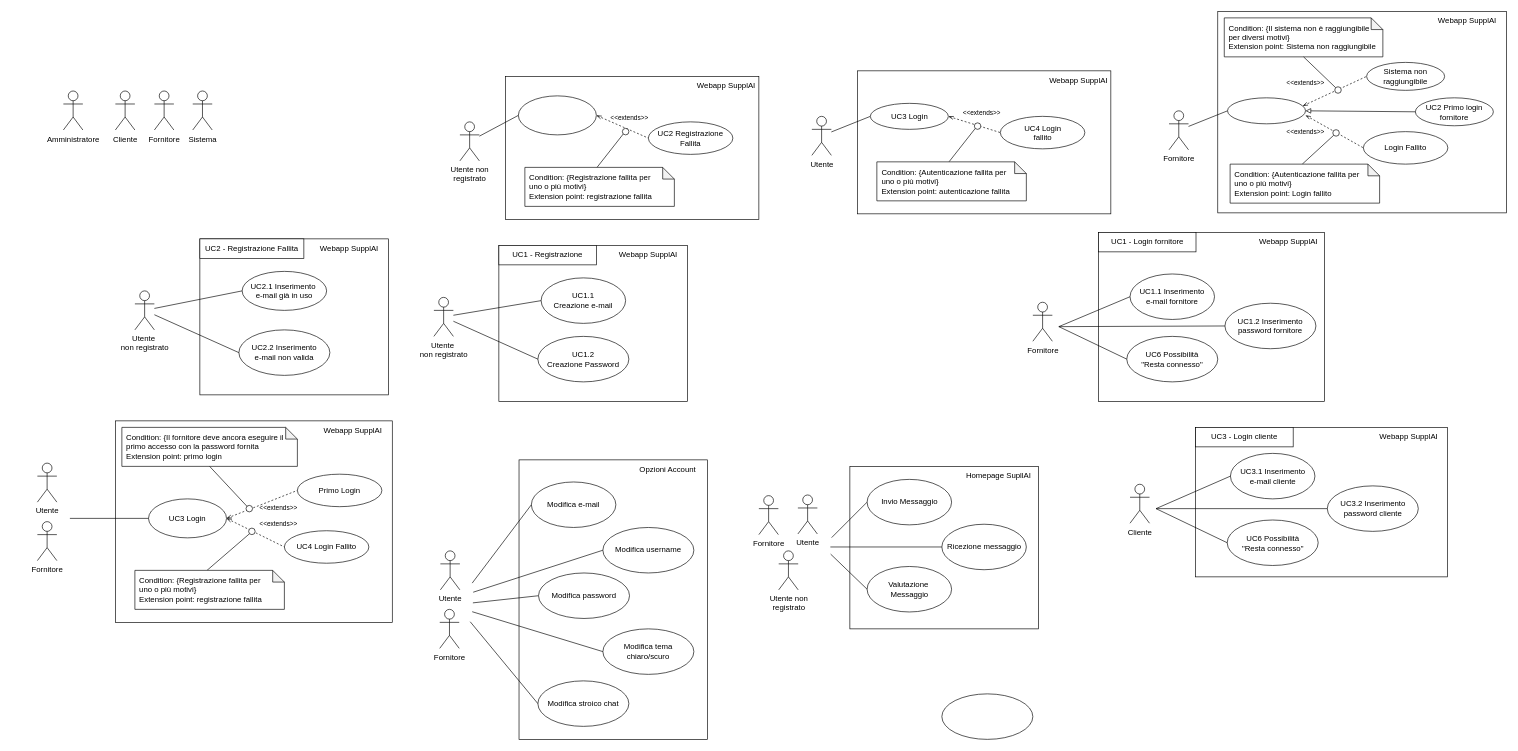
Some shapes in this 1518 by 751 pixel diagram are drawn without their labels. The centre of each missing label's shape, as x and y in pixels:
Modifica Logo: point (987, 716)
UC1 Login Fornitore: point (1266, 110)
UC1 Registrazione Utente: point (557, 115)
